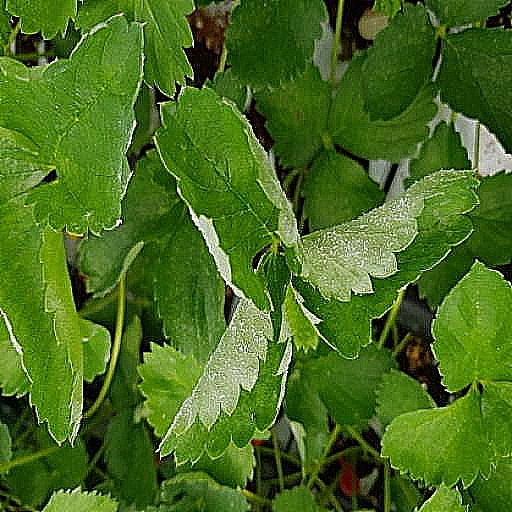Powdery Mildew Leaf: (281, 153, 482, 345), (152, 199, 300, 428), (0, 274, 146, 498), (155, 45, 295, 267), (0, 63, 85, 354)
